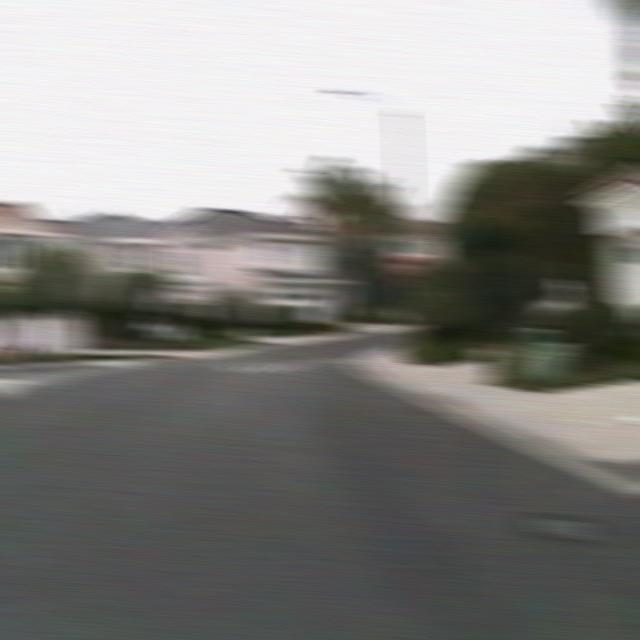stop_sign: (392, 255, 422, 282)
